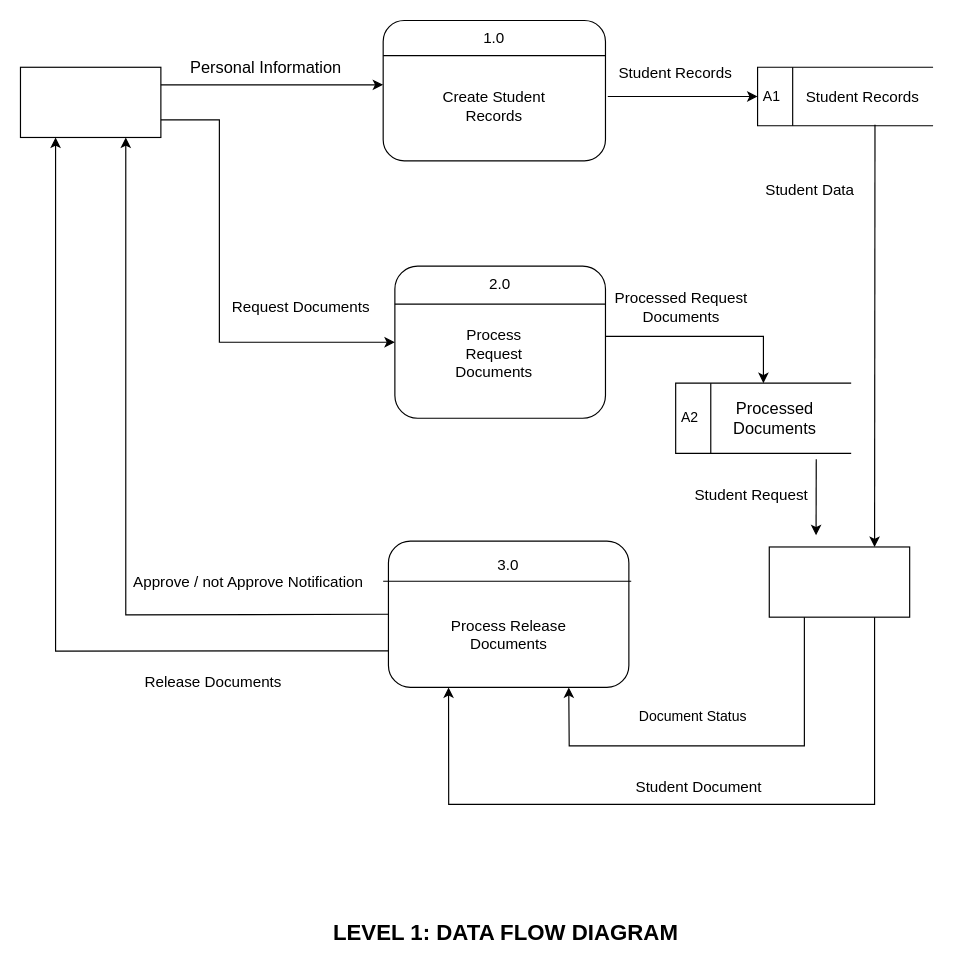
This 954x977 diagram has some shape labels left out. Each missing label, with the centre of its shape:
"Student" belongs at [90,101].
"Teacher" belongs at [839,581].
